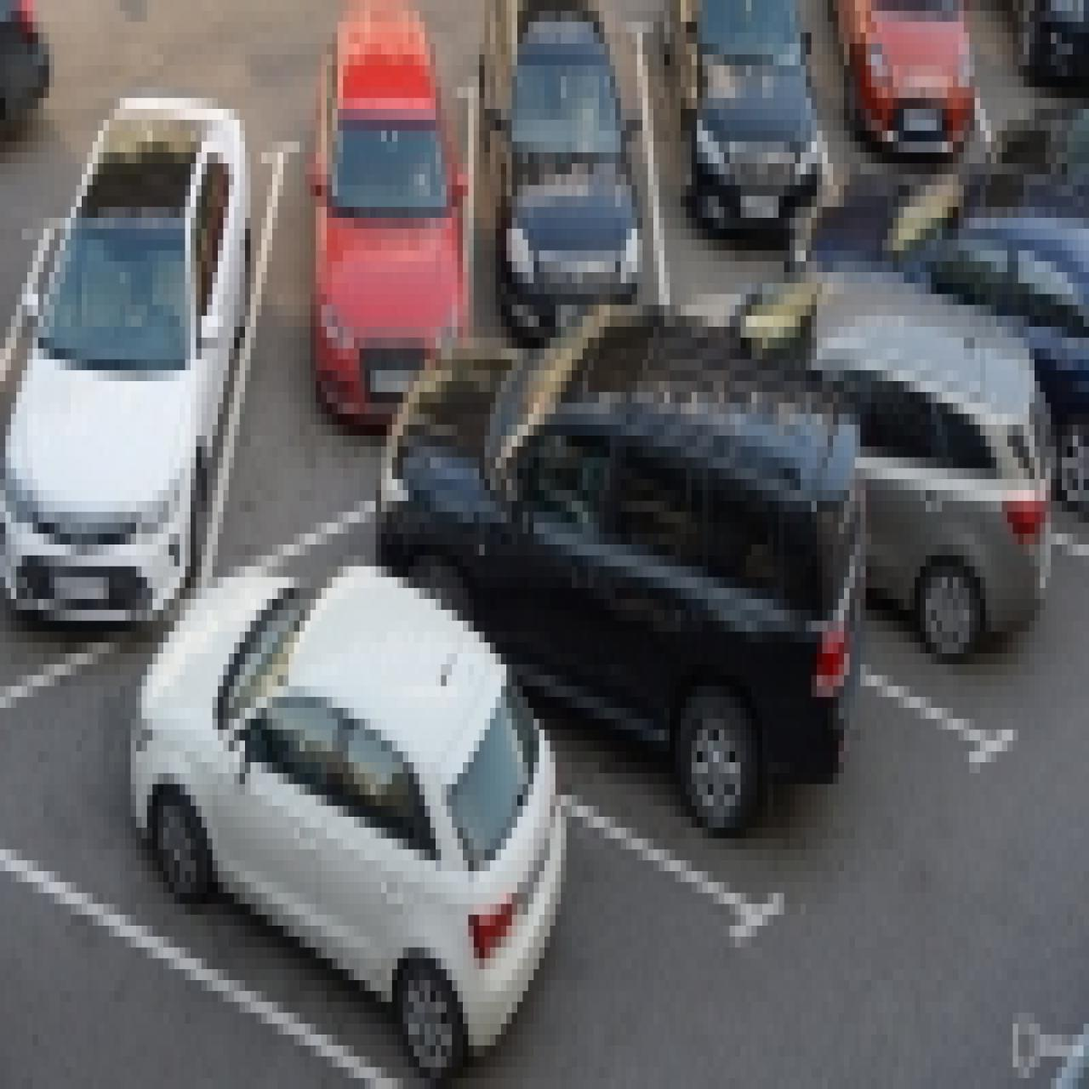cars: (54, 561, 631, 1073), (398, 419, 893, 909), (741, 321, 1056, 724), (0, 98, 245, 588), (242, 49, 466, 485), (828, 169, 1089, 507), (477, 27, 634, 408), (653, 0, 828, 305), (831, 0, 988, 174)
